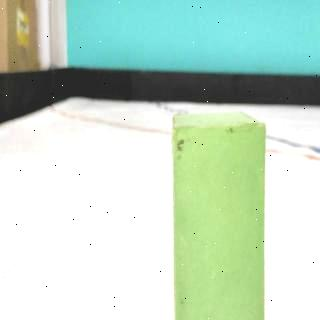greenbox: (174, 113, 266, 320)
